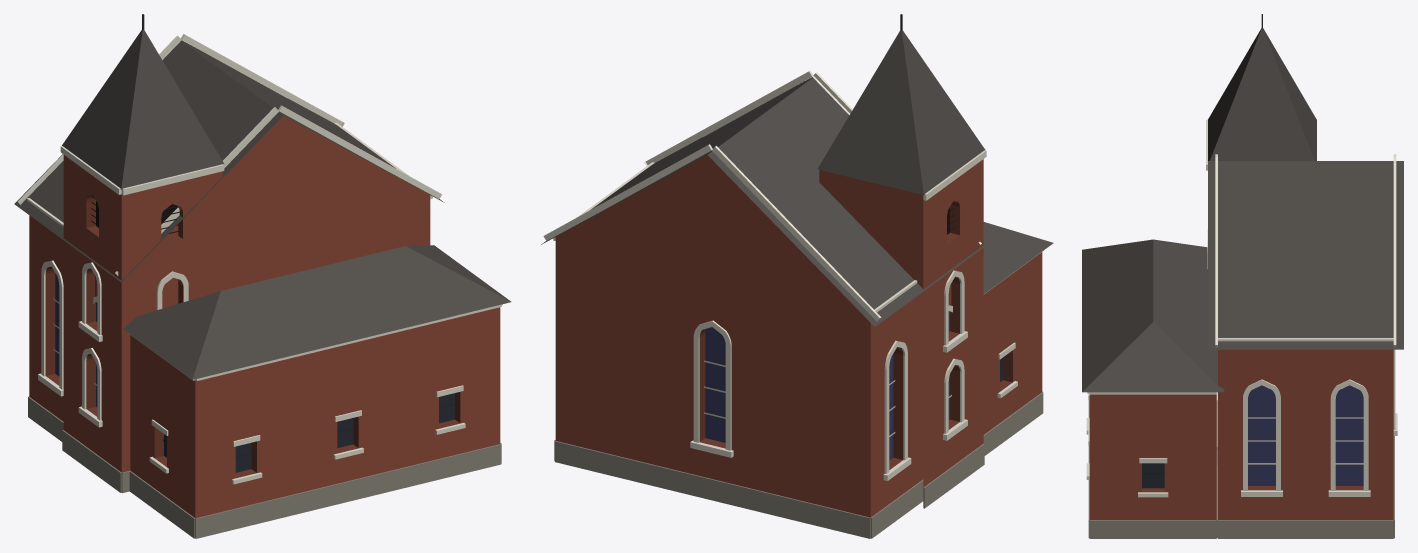
Rendered from ch-first-associate-reformed-presbyterian-1913.glb.
3 renders of one model, left to right at view 1: azimuth 30°, elevation 25°; view 2: azimuth 150°, elevation 25°; view 3: azimuth 270°, elevation 25°, orthographic. The views are drawn at different scales.
Parts seen in each view (by area): view 1: ch_brick, ch_roof, ch_roof2, ch_trim, ch_base, ch_brick2, ch_glass, ch_stain; view 2: ch_brick, ch_roof, ch_roof2, ch_trim, ch_base, ch_brick2, ch_stain; view 3: ch_roof, ch_brick, ch_roof2, ch_trim, ch_base, ch_stain, ch_glass, ch_brick2.
Part boxes in pixels (x1,y1,x2,y2): ch_brick: (29,116,500,518); ch_roof: (14,40,511,379); ch_roof2: (62,29,224,189); ch_trim: (17,34,502,484); ch_base: (28,396,501,538); ch_brick2: (45,195,460,478); ch_glass: (164,393,454,472); ch_stain: (55,273,97,407); ch_brick: (555,155,1042,517); ch_roof: (541,77,1053,326); ch_roof2: (817,30,985,195); ch_trim: (543,70,1044,480); ch_base: (554,391,1043,538); ch_brick2: (699,201,1012,469); ch_stain: (705,311,949,460); ch_roof: (1082,161,1403,392); ch_brick: (1089,349,1393,519); ch_roof2: (1207,28,1316,165); ch_trim: (1086,120,1397,497); ch_base: (1088,400,1394,538); ch_stain: (1248,385,1363,485); ch_glass: (1142,463,1164,488); ch_brick2: (1142,486,1363,492).
Size of the model in its own units: 13.65 by 17.8 by 12.69.
